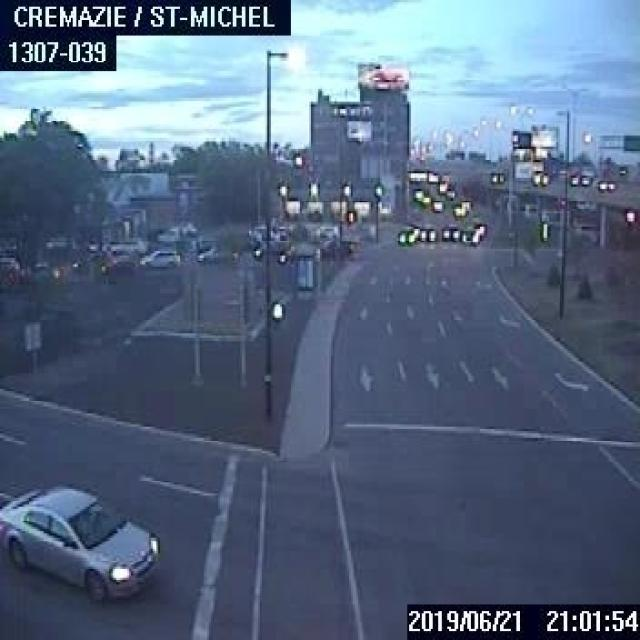vehicle: (0, 480, 162, 604), (138, 248, 179, 266), (196, 246, 237, 262), (440, 222, 460, 240), (158, 226, 180, 242), (593, 175, 613, 192), (394, 227, 414, 244), (460, 227, 478, 245), (569, 172, 590, 187), (418, 222, 435, 240), (530, 168, 547, 185), (471, 220, 486, 234), (451, 202, 464, 217), (490, 170, 503, 182), (460, 197, 470, 210), (432, 198, 441, 210)
